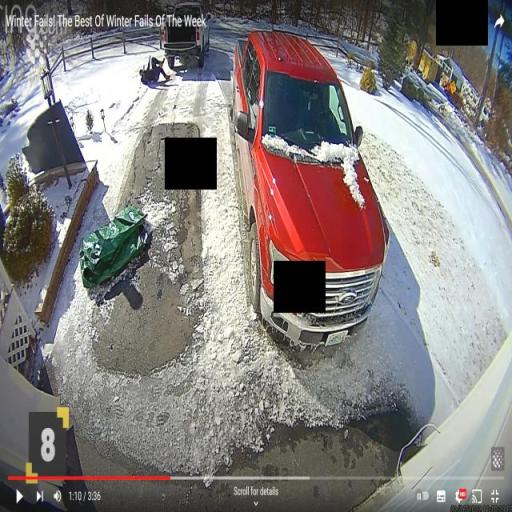Fall: (136, 55, 173, 90)
